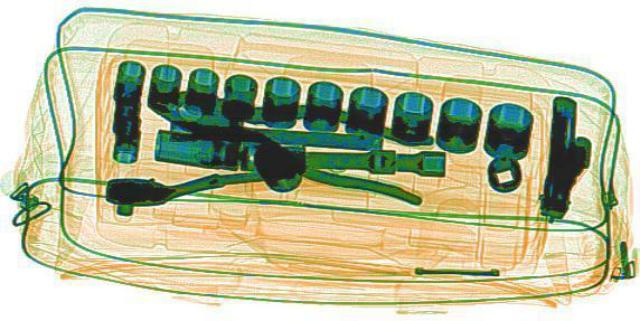Gun: (534, 93, 598, 220)
